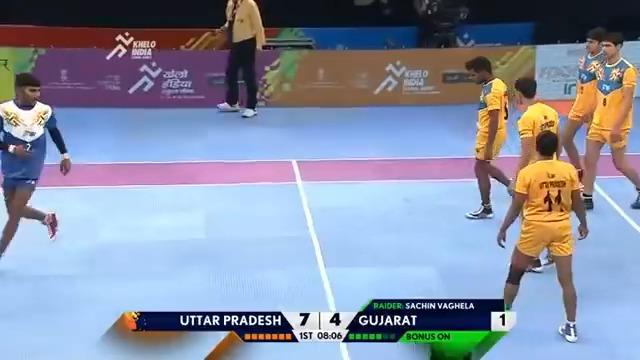Player: (496, 129, 589, 343), (463, 55, 543, 272), (0, 71, 71, 259), (579, 31, 639, 210), (508, 76, 562, 273), (463, 55, 516, 219), (561, 26, 607, 186)
referee: (214, 0, 266, 118), (414, 0, 470, 48)
